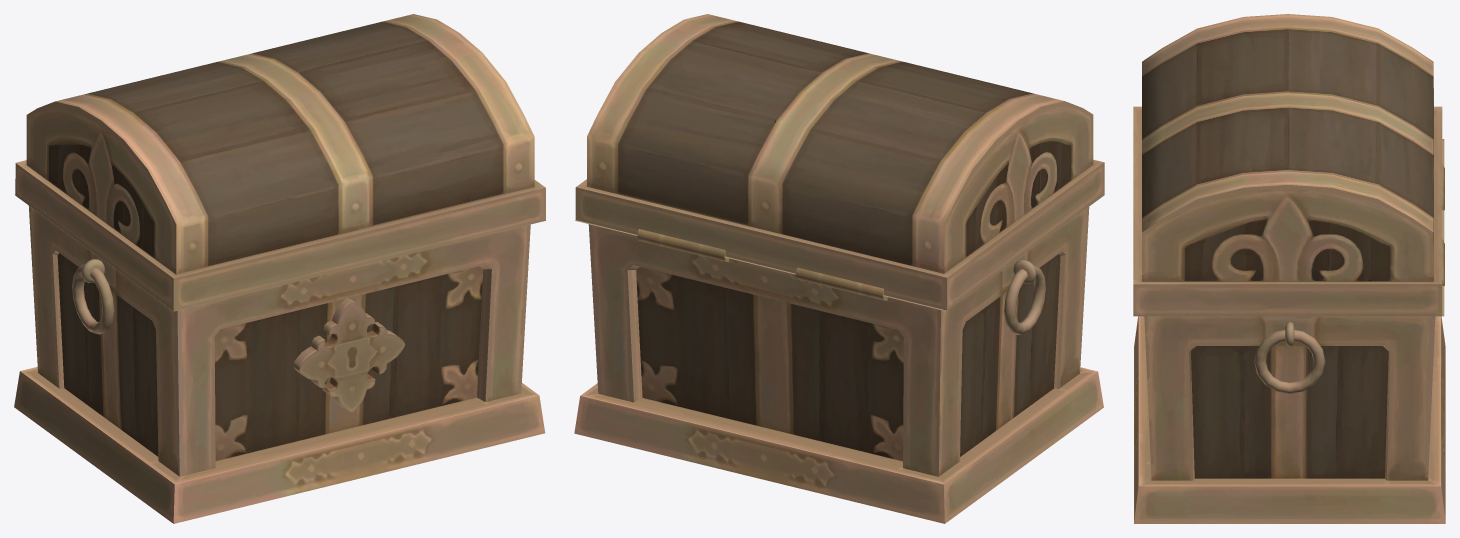
The model's file is chest_luxurious.fbx.
3 views of the same model, side by side, from view 1: azimuth 30°, elevation 25°; view 2: azimuth 150°, elevation 25°; view 3: azimuth 270°, elevation 25° (orthographic). The views are drawn at different scales.
Parts seen in each view (by area): view 1: Item_Chest03_Vo.001, Item_Chest03_Vo.002; view 2: Item_Chest03_Vo.001, Item_Chest03_Vo.002; view 3: Item_Chest03_Vo.002, Item_Chest03_Vo.001.
Boxes of the visible parts, x1,y1,x2,y2 form: Item_Chest03_Vo.001: [14, 194, 545, 523]; Item_Chest03_Vo.002: [15, 14, 545, 311]; Item_Chest03_Vo.001: [574, 207, 1103, 523]; Item_Chest03_Vo.002: [575, 14, 1104, 310]; Item_Chest03_Vo.002: [1133, 14, 1442, 316]; Item_Chest03_Vo.001: [1134, 139, 1445, 523].
Bounding box in the file's own units: 62.73 × 89.46 × 74.45.
Materials: 1 (1 with a texture image).
